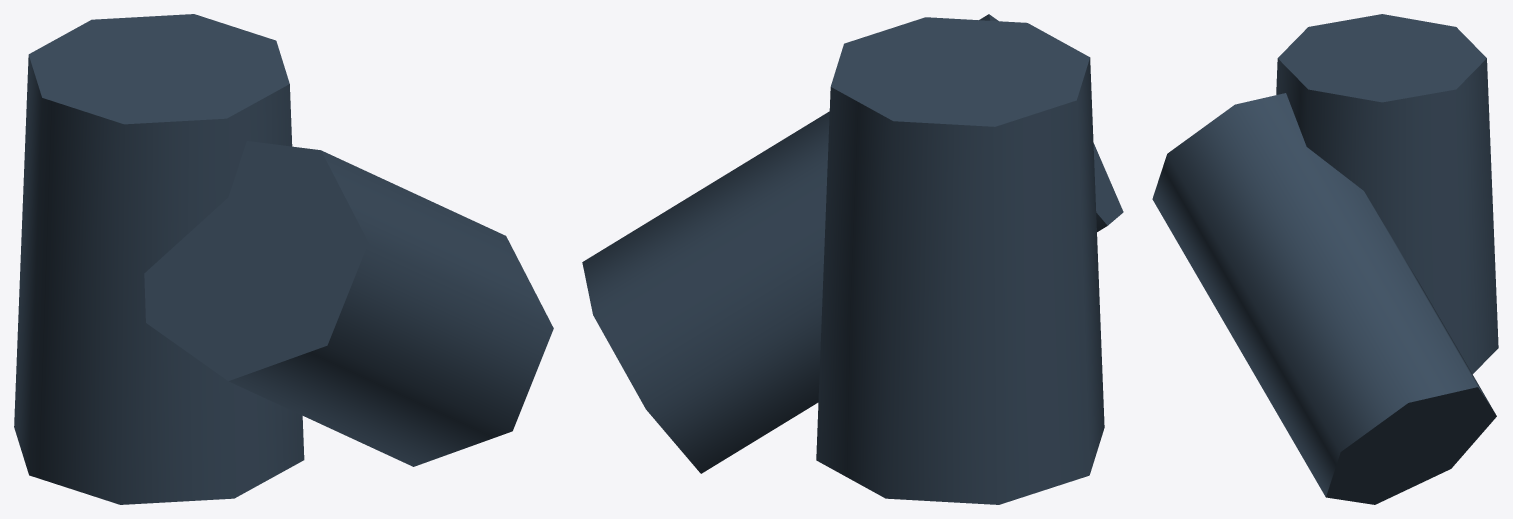
File: broken_pillar.glb
The picture shows the model from 3 angles, left to right: view 1: azimuth 30°, elevation 25°; view 2: azimuth 150°, elevation 25°; view 3: azimuth 270°, elevation 25°; orthographic projection. The views are drawn at different scales.
Bounding box in the file's own units: 1.53 × 1.34 × 1.19.
